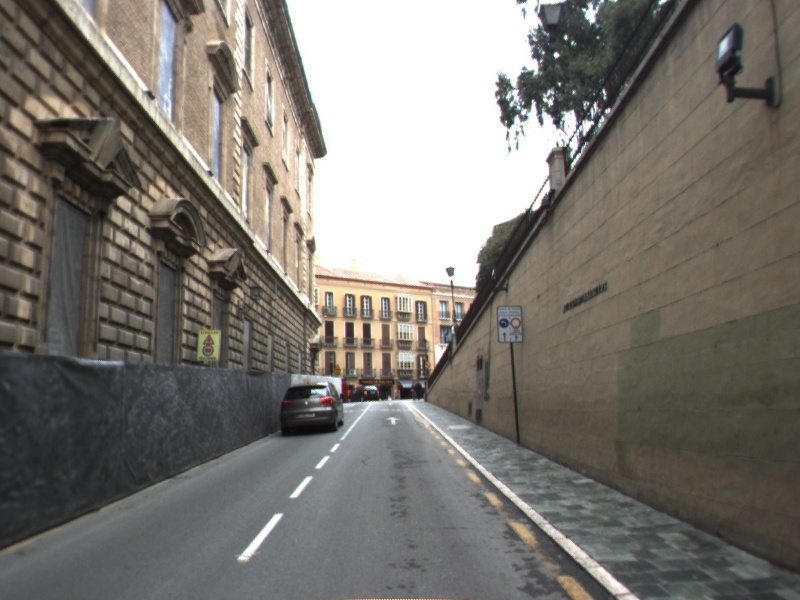STRAIGHT: (383, 414, 403, 427)
